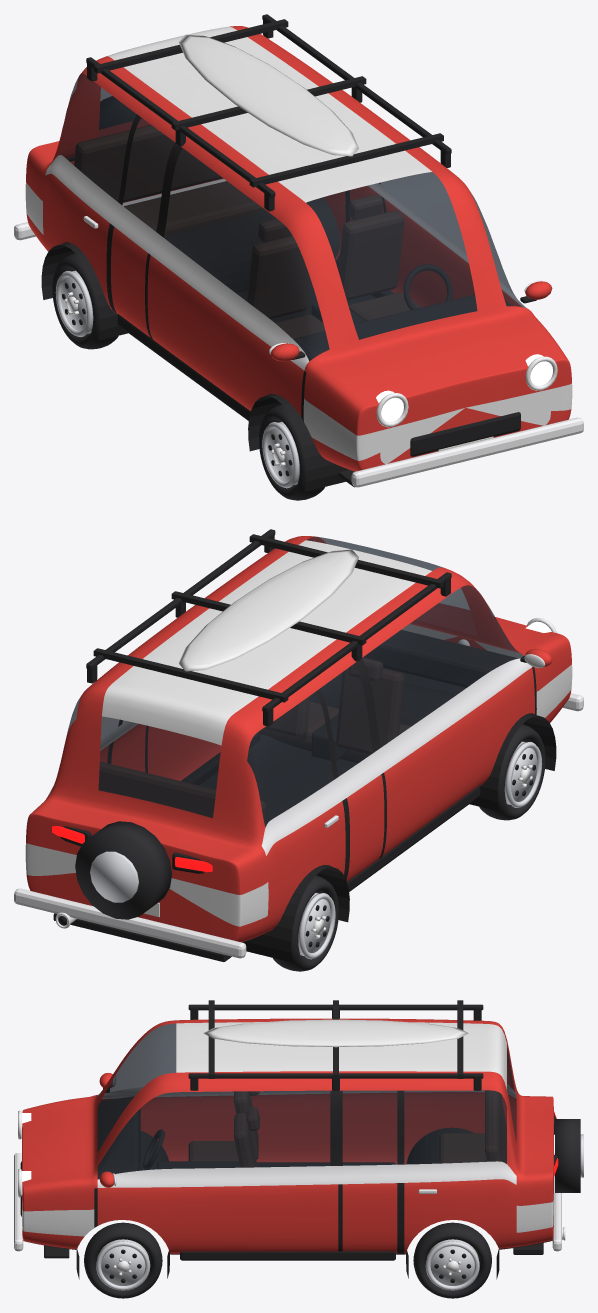
Rendered from sundog.glb.
3 renders of one model, top to bottom at view 1: azimuth 30°, elevation 25°; view 2: azimuth 150°, elevation 25°; view 3: azimuth 270°, elevation 25°, orthographic. The views are drawn at different scales.
Parts seen in each view (by area): view 1: body, wheel_fr, wheel_rr; view 2: body, wheel_rr, wheel_fr; view 3: body, wheel_fl, wheel_rl.
Boxes of the visible parts, x1,y1,x2,y2 form: body: [14, 14, 583, 491]; wheel_fr: [259, 404, 324, 500]; wheel_rr: [52, 253, 118, 349]; body: [14, 529, 583, 962]; wheel_rr: [273, 875, 338, 971]; wheel_fr: [479, 724, 545, 820]; body: [14, 1000, 583, 1279]; wheel_fl: [84, 1222, 162, 1298]; wheel_rl: [413, 1222, 491, 1298].
Bounding box in the file's own units: 2.23 × 2.14 × 4.93.
